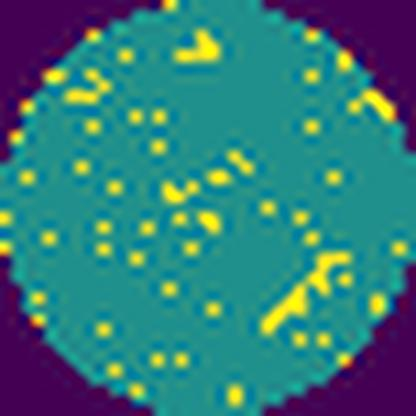Loc: (257, 243, 350, 333), (177, 29, 221, 64)
